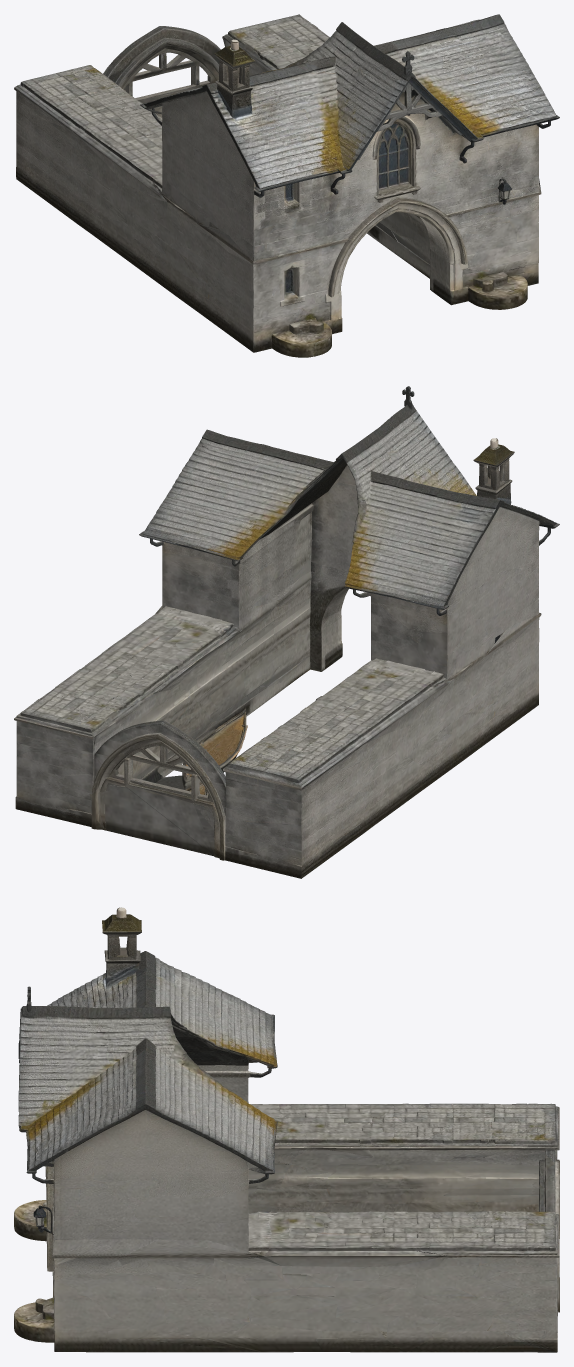
The model's file is boathouse.hq.glb.
3 views of the same model, one above another, from view 1: azimuth 30°, elevation 25°; view 2: azimuth 150°, elevation 25°; view 3: azimuth 270°, elevation 25° (orthographic). The views are drawn at different scales.
Parts seen in each view (by area): view 1: placed; view 2: placed; view 3: placed.
Boxes of the visible parts, x1,y1,x2,y2 form: placed: (14,14,559,357); placed: (14,386,559,878); placed: (14,907,559,1352).
Size of the model in its own units: 12.34 by 11.03 by 18.
1 material, 1 textured.
